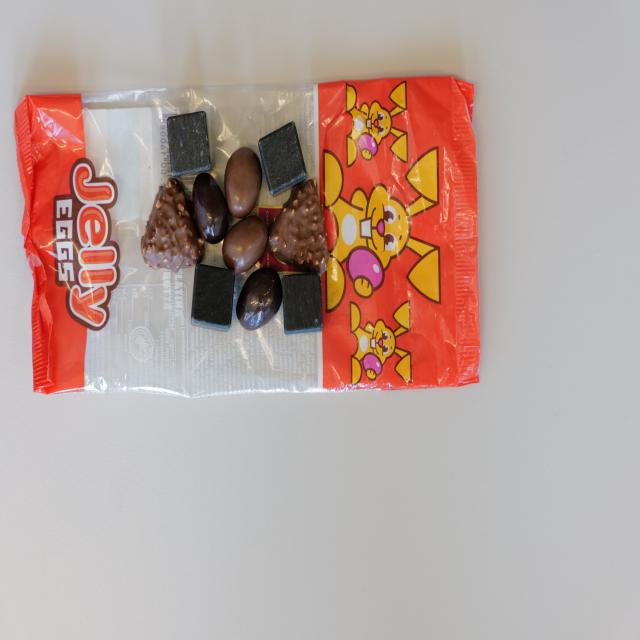Jelly_Black: (239, 264, 281, 337), (191, 170, 228, 243)
Jelly_Milk: (226, 147, 261, 219), (225, 220, 272, 268)
Triangolo: (272, 181, 332, 273), (143, 179, 201, 268)
